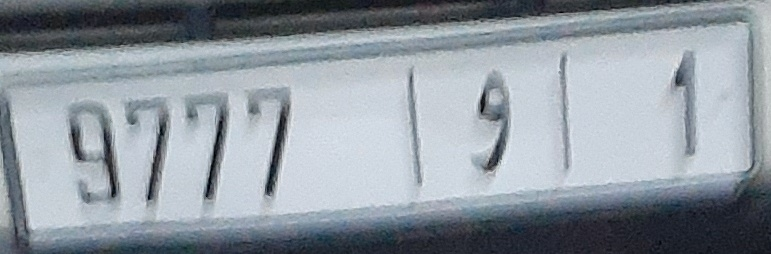1: (666, 47, 709, 157)
7: (240, 84, 296, 202), (182, 88, 233, 202), (125, 95, 174, 210)
9: (62, 97, 121, 208)
waw: (463, 67, 516, 176)
